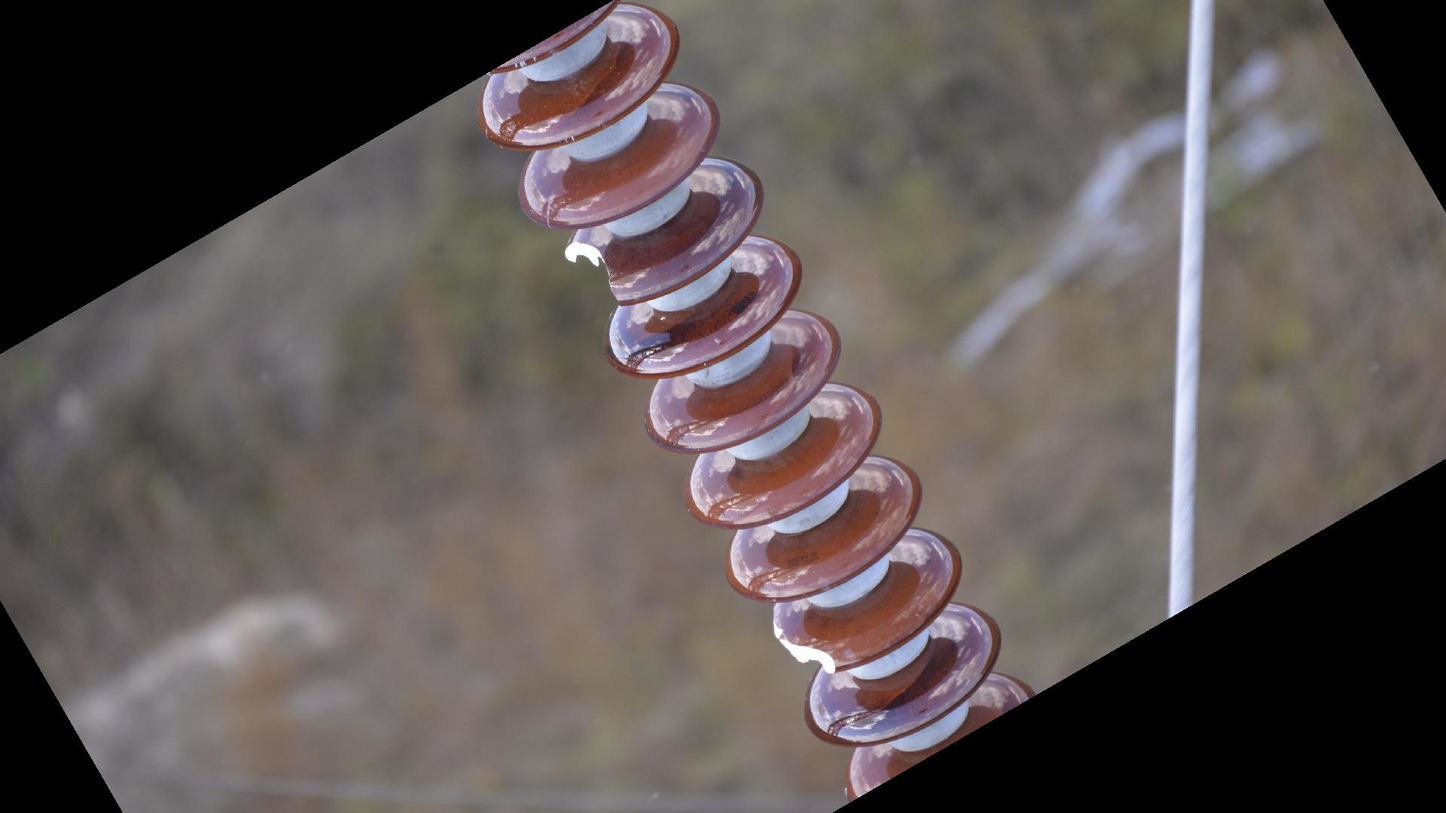insulator: (476, 1, 1043, 813)
insulator_breakage: (766, 602, 841, 681), (556, 237, 631, 310)
